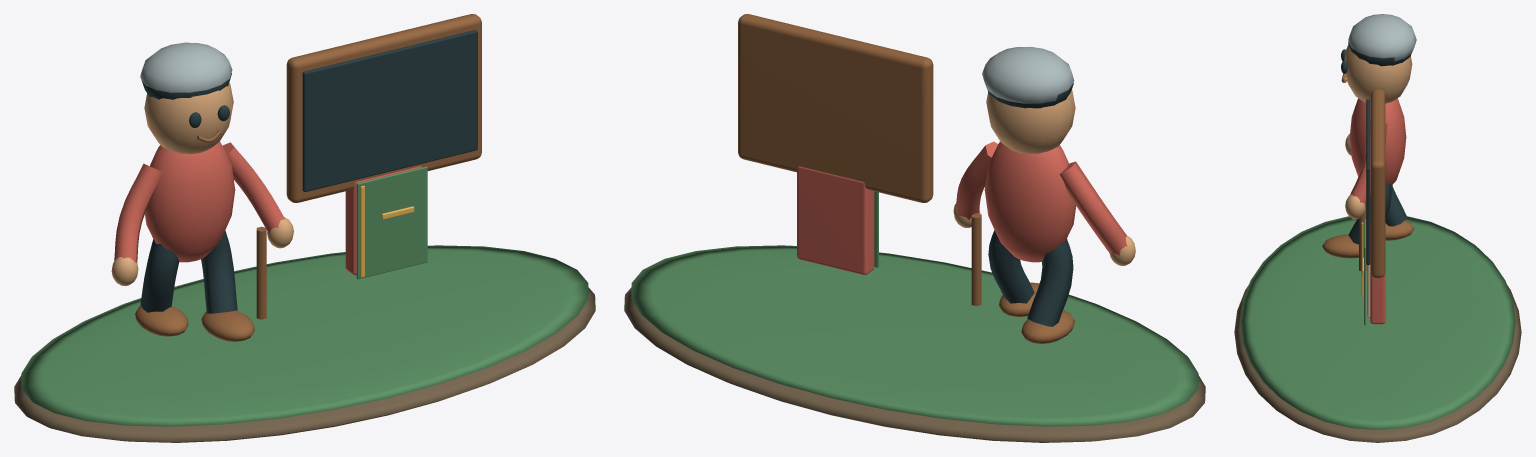
File: elder-teacher.glb
The picture shows the model from 3 angles, left to right: view 1: azimuth 30°, elevation 25°; view 2: azimuth 150°, elevation 25°; view 3: azimuth 270°, elevation 25°; orthographic projection. The views are drawn at different scales.
Parts seen in each view (by area): view 1: elder-teacher_surface_01, elder-teacher_surface_03, elder-teacher_surface_05, elder-teacher_surface_04, elder-teacher_surface_00, elder-teacher_surface_02, elder-teacher_surface_06, elder-teacher_surface_08; view 2: elder-teacher_surface_01, elder-teacher_surface_04, elder-teacher_surface_05, elder-teacher_surface_00, elder-teacher_surface_03, elder-teacher_surface_02, elder-teacher_surface_06; view 3: elder-teacher_surface_01, elder-teacher_surface_00, elder-teacher_surface_04, elder-teacher_surface_05, elder-teacher_surface_02, elder-teacher_surface_06, elder-teacher_surface_03.
Boxes of the visible parts, x1=… form: elder-teacher_surface_01: x1=21, y1=166, x2=588, y2=426; elder-teacher_surface_03: x1=140, y1=30, x2=477, y2=313; elder-teacher_surface_05: x1=114, y1=141, x2=421, y2=274; elder-teacher_surface_04: x1=135, y1=14, x2=481, y2=341; elder-teacher_surface_00: x1=14, y1=288, x2=595, y2=442; elder-teacher_surface_02: x1=111, y1=83, x2=293, y2=285; elder-teacher_surface_06: x1=140, y1=42, x2=232, y2=92; elder-teacher_surface_08: x1=360, y1=185, x2=414, y2=277; elder-teacher_surface_01: x1=631, y1=191, x2=1198, y2=426; elder-teacher_surface_04: x1=738, y1=14, x2=1074, y2=343; elder-teacher_surface_05: x1=797, y1=141, x2=1127, y2=274; elder-teacher_surface_00: x1=624, y1=288, x2=1205, y2=442; elder-teacher_surface_03: x1=988, y1=83, x2=1073, y2=326; elder-teacher_surface_02: x1=953, y1=89, x2=1135, y2=265; elder-teacher_surface_06: x1=982, y1=46, x2=1074, y2=103; elder-teacher_surface_01: x1=1240, y1=216, x2=1515, y2=429; elder-teacher_surface_00: x1=1234, y1=285, x2=1521, y2=442; elder-teacher_surface_04: x1=1322, y1=73, x2=1414, y2=278; elder-teacher_surface_05: x1=1349, y1=98, x2=1406, y2=324; elder-teacher_surface_02: x1=1344, y1=44, x2=1412, y2=219; elder-teacher_surface_06: x1=1348, y1=14, x2=1416, y2=61; elder-teacher_surface_03: x1=1341, y1=41, x2=1411, y2=265.
Bounding box in the file's own units: 4.56 × 2.69 × 2.5.
